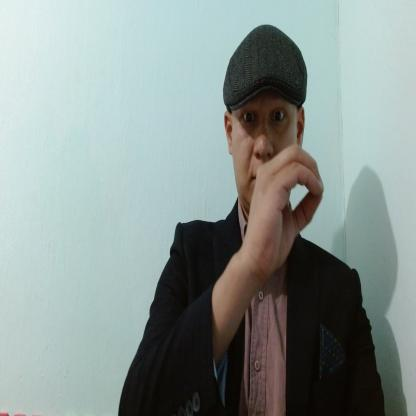O: (248, 143, 326, 272)
